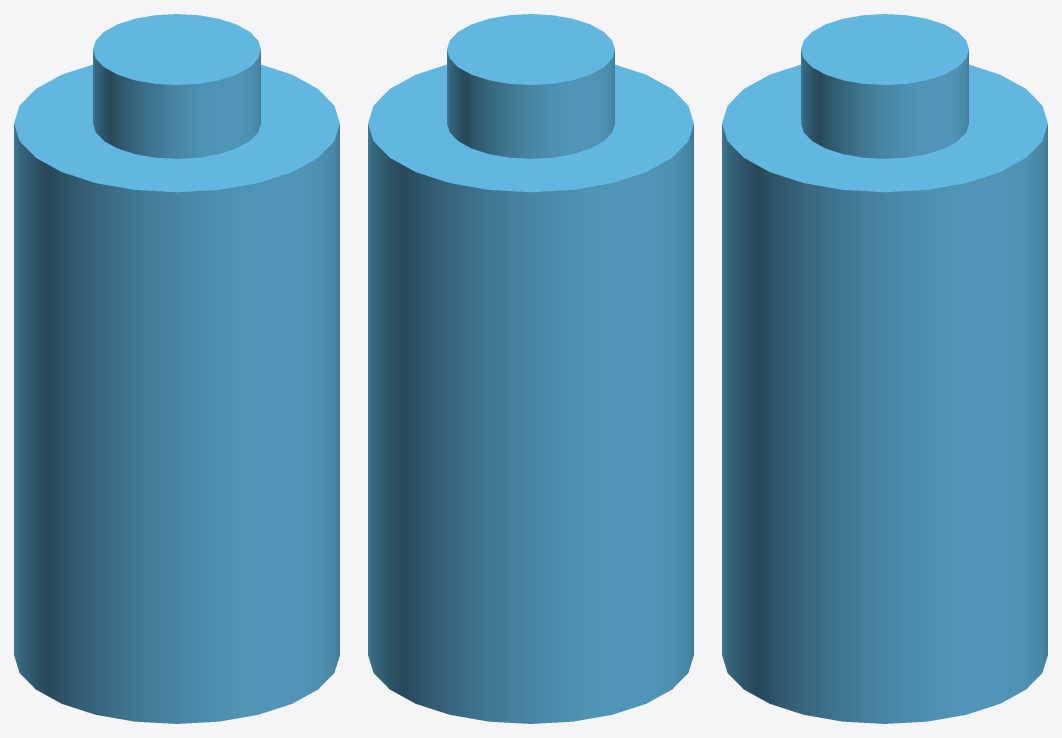
File: Tall_Bottle0.dae
The picture shows the model from 3 angles, left to right: view 1: azimuth 30°, elevation 25°; view 2: azimuth 150°, elevation 25°; view 3: azimuth 270°, elevation 25°; orthographic projection.
Visible parts, largest first — view 1: SketchUp (×2); view 2: SketchUp (×2); view 3: SketchUp (×2).
Boxes of the visible parts, x1,y1,x2,y2 form: SketchUp (×2): [14, 14, 339, 723]; SketchUp (×2): [368, 14, 693, 723]; SketchUp (×2): [722, 14, 1047, 723].
Size of the model in its own units: 1.97 by 1.97 by 4.04.
